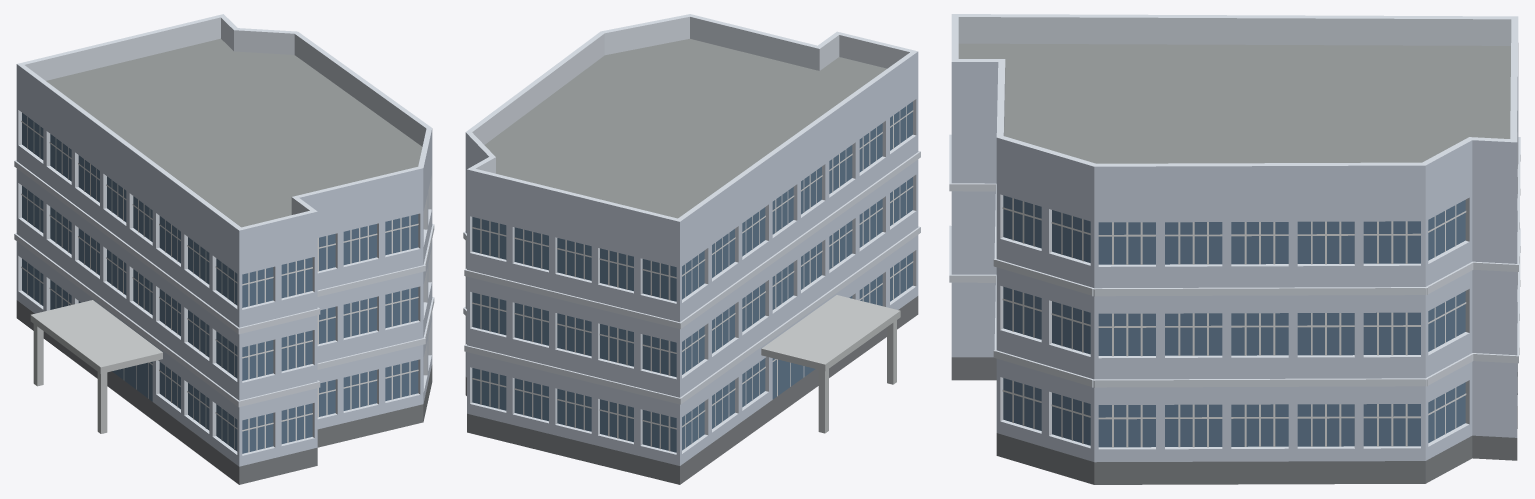
3 views of the same model, side by side, from view 1: azimuth 30°, elevation 25°; view 2: azimuth 150°, elevation 25°; view 3: azimuth 270°, elevation 25° (orthographic). The views are drawn at different scales.
Parts seen in each view (by area): view 1: wing5__wall-plaster, wing5__roof, wing5__glass, wing5__trim-concrete, wing5__frame, wing5__base-stone, wing5__canopy-concrete; view 2: wing5__wall-plaster, wing5__roof, wing5__glass, wing5__trim-concrete, wing5__frame, wing5__base-stone, wing5__canopy-concrete; view 3: wing5__wall-plaster, wing5__roof, wing5__glass, wing5__trim-concrete, wing5__base-stone, wing5__frame.
Boxes of the visible parts, x1=… form: wing5__wall-plaster: x1=16, y1=64, x2=432, y2=466; wing5__roof: x1=46, y1=38, x2=422, y2=227; wing5__glass: x1=22, y1=113, x2=418, y2=453; wing5__trim-concrete: x1=14, y1=14, x2=434, y2=455; wing5__frame: x1=21, y1=117, x2=418, y2=452; wing5__base-stone: x1=16, y1=300, x2=432, y2=484; wing5__canopy-concrete: x1=30, y1=300, x2=162, y2=433; wing5__wall-plaster: x1=465, y1=52, x2=918, y2=465; wing5__roof: x1=484, y1=39, x2=886, y2=218; wing5__glass: x1=472, y1=101, x2=912, y2=452; wing5__trim-concrete: x1=463, y1=14, x2=920, y2=454; wing5__frame: x1=472, y1=106, x2=913, y2=451; wing5__base-stone: x1=465, y1=296, x2=918, y2=484; wing5__canopy-concrete: x1=761, y1=295, x2=900, y2=433; wing5__wall-plaster: x1=951, y1=43, x2=1518, y2=462; wing5__roof: x1=958, y1=43, x2=1510, y2=163; wing5__glass: x1=1003, y1=195, x2=1465, y2=447; wing5__trim-concrete: x1=949, y1=14, x2=1520, y2=449; wing5__base-stone: x1=951, y1=357, x2=1517, y2=484; wing5__frame: x1=1002, y1=198, x2=1466, y2=447.
Bounding box in the file's own units: 16.16 × 12.55 × 20.42.
